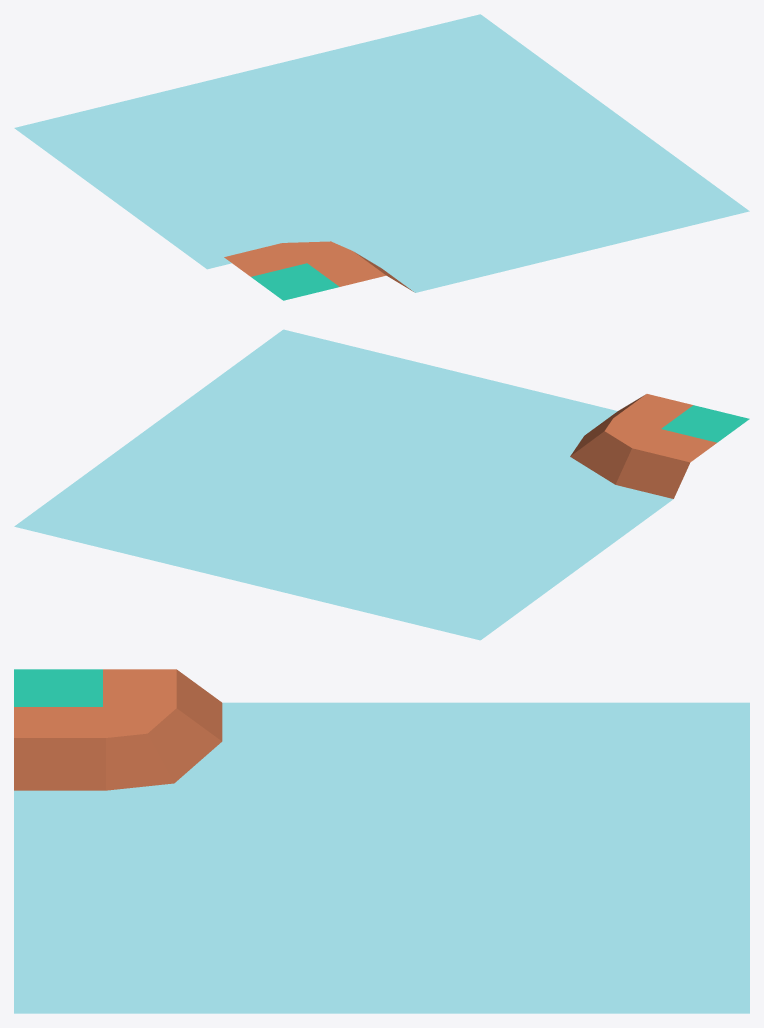
The model's file is ground_riverCornerSmall.glb.
The picture shows the model from 3 angles, top to bottom: view 1: azimuth 30°, elevation 25°; view 2: azimuth 150°, elevation 25°; view 3: azimuth 270°, elevation 25°; orthographic projection. The views are drawn at different scales.
Parts seen in each view (by area): view 1: ground_riverCornerSmall; view 2: ground_riverCornerSmall; view 3: ground_riverCornerSmall.
Part boxes in pixels (bbox=[...]): ground_riverCornerSmall: bbox=[14, 14, 749, 300]; ground_riverCornerSmall: bbox=[14, 329, 749, 640]; ground_riverCornerSmall: bbox=[14, 669, 749, 1013].
Bounding box in the file's own units: 1 × 0.05 × 1.
